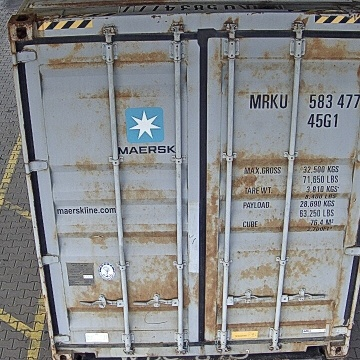serial_id: (250, 93, 360, 108)
